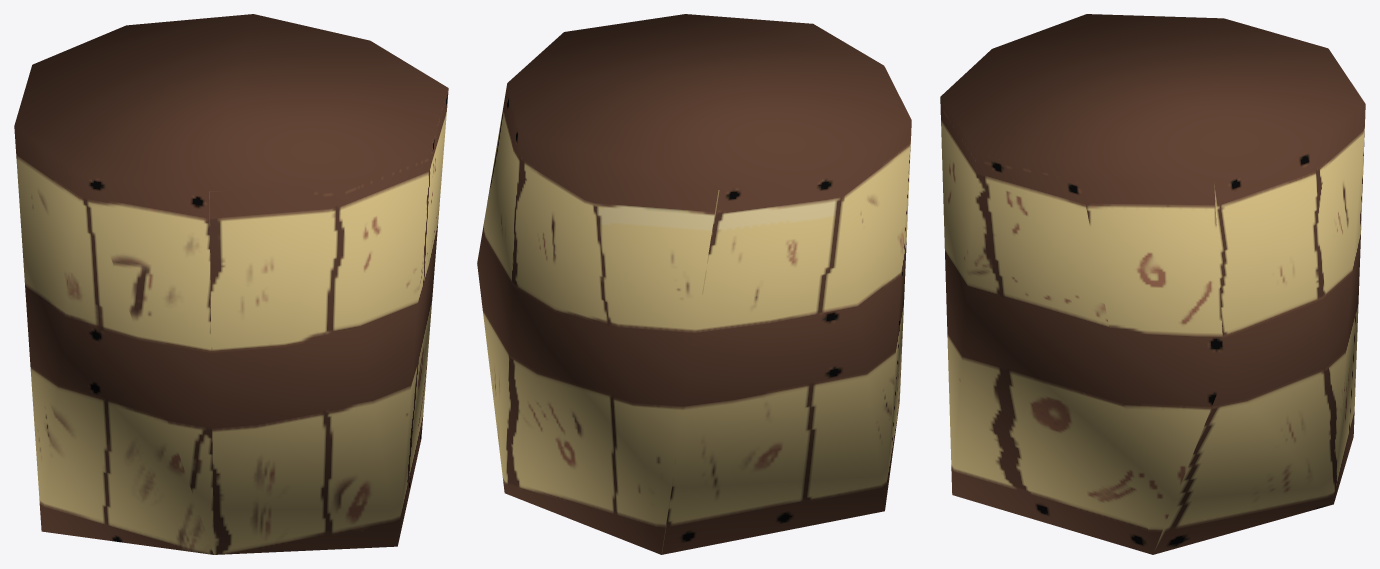
Rendered from Bocka_lod2.fbx.
3 views of the same model, side by side, from view 1: azimuth 30°, elevation 25°; view 2: azimuth 150°, elevation 25°; view 3: azimuth 270°, elevation 25° (orthographic). The views are drawn at different scales.
Parts seen in each view (by area): view 1: лод 2; view 2: лод 2; view 3: лод 2.
Boxes of the visible parts, <box> form: лод 2: <box>14,14,448,554</box>; лод 2: <box>477,14,911,554</box>; лод 2: <box>940,14,1365,554</box>.
Size of the model in its own units: 209 by 207 by 199.
